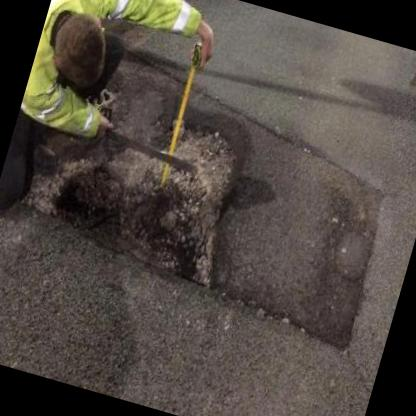pothole: (118, 96, 263, 296)
